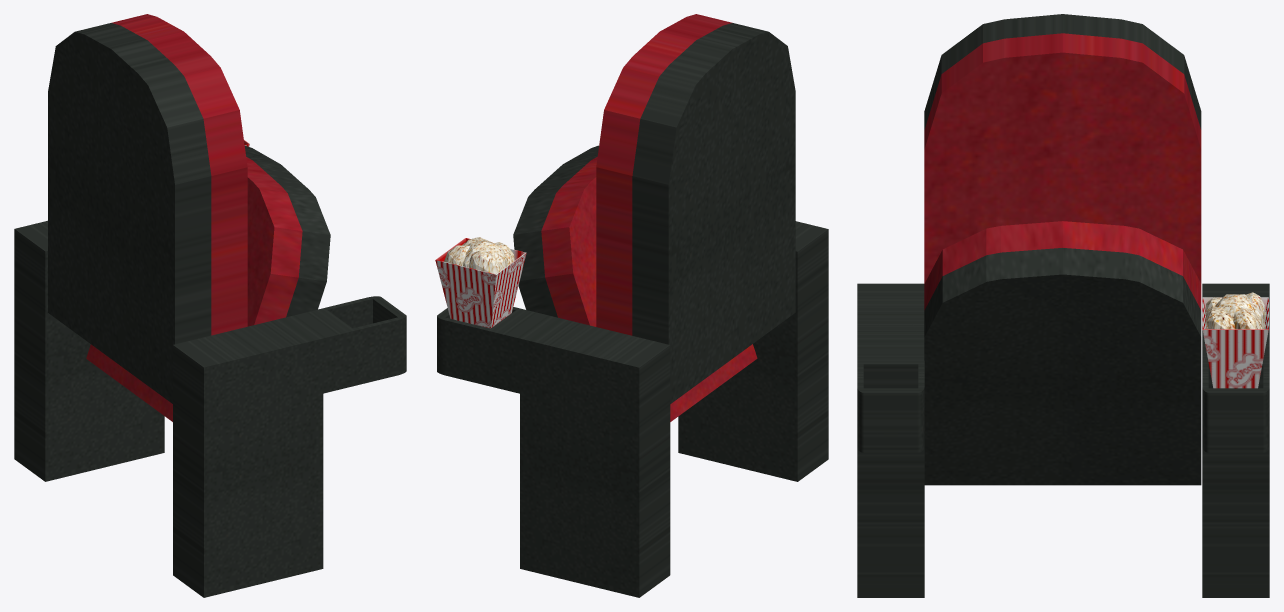
Rendered from butaca_cubo.fbx.
3 renders of one model, left to right at view 1: azimuth 30°, elevation 25°; view 2: azimuth 150°, elevation 25°; view 3: azimuth 270°, elevation 25°, orthographic. The views are drawn at different scales.
Visible parts, largest first — view 1: Butaca; view 2: Butaca, CuboPalomitas; view 3: Butaca, CuboPalomitas.
Part boxes in pixels (<box>): Butaca: <box>14,14,406,597</box>; Butaca: <box>437,14,828,597</box>; CuboPalomitas: <box>435,237,526,328</box>; Butaca: <box>857,14,1269,597</box>; CuboPalomitas: <box>1202,292,1268,388</box>.
Size of the model in its own units: 187 by 416 by 298.
Materials: 1 (1 with a texture image).
